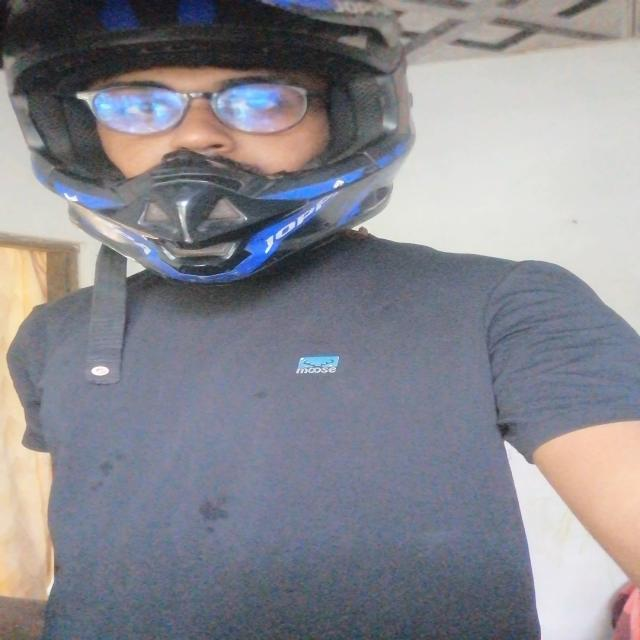Helmet_Wearer: (10, 2, 468, 280)
